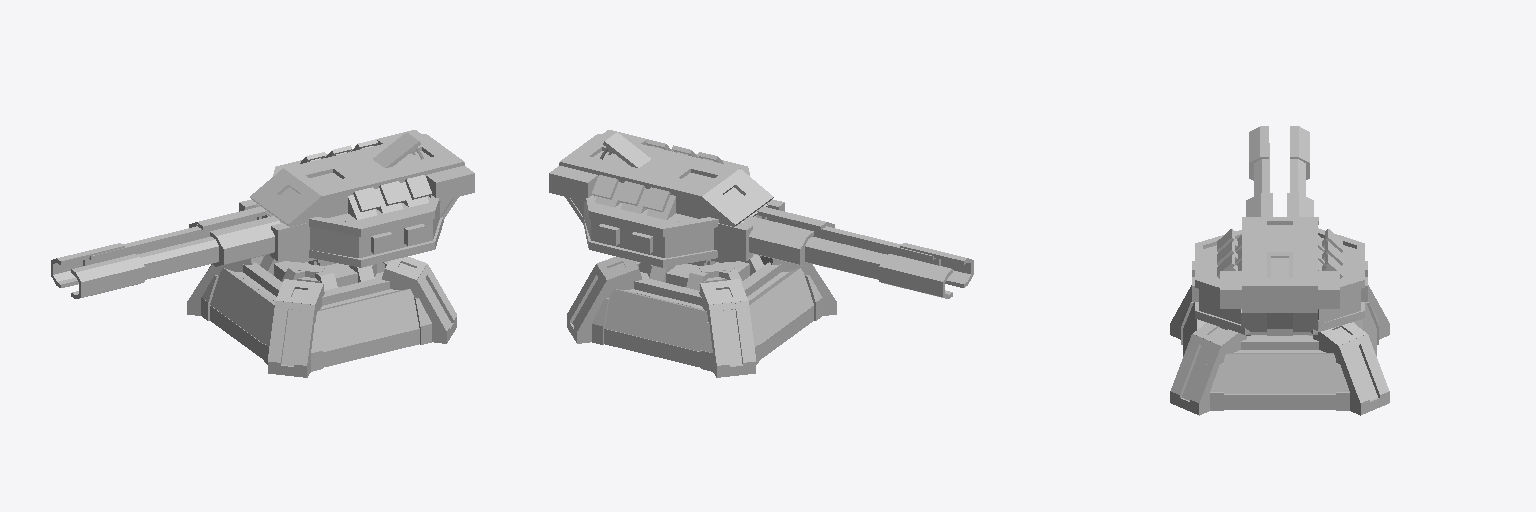
The model's file is kinetic_cannon_2_medium.obj.
3 renders of one model, left to right at view 1: azimuth 30°, elevation 25°; view 2: azimuth 150°, elevation 25°; view 3: azimuth 270°, elevation 25°, orthographic.
Parts seen in each view (by area): view 1: cube.224; view 2: cube.224; view 3: cube.224.
Boxes of the visible parts, x1=… form: cube.224: x1=51, y1=130, x2=474, y2=377; cube.224: x1=549, y1=130, x2=973, y2=377; cube.224: x1=1170, y1=126, x2=1389, y2=415.
Bounding box in the file's own units: 6.42 × 2.62 × 3.21.